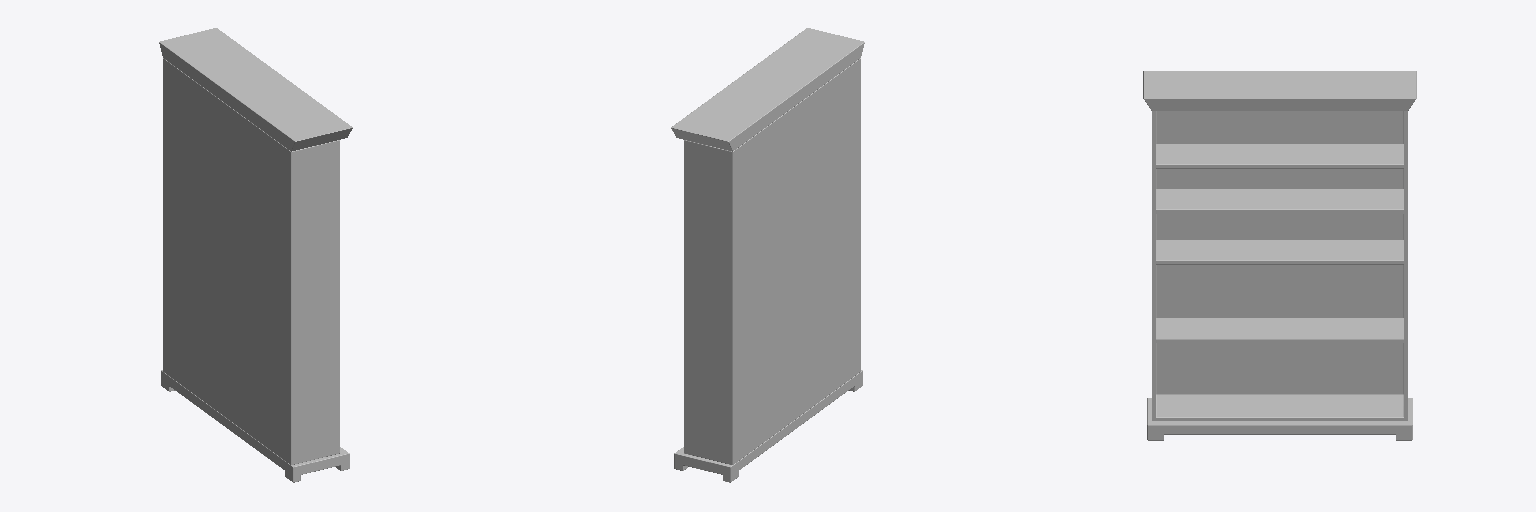
Rendered from bookshelf.obj.
The picture shows the model from 3 angles: view 1: azimuth 30°, elevation 25°; view 2: azimuth 150°, elevation 25°; view 3: azimuth 270°, elevation 25°; orthographic projection.
Parts seen in each view (by area): view 1: bookshelf_Cube.001; view 2: bookshelf_Cube.001; view 3: bookshelf_Cube.001.
Part boxes in pixels (bbox=[...]): bookshelf_Cube.001: bbox=[159, 28, 352, 482]; bookshelf_Cube.001: bbox=[671, 28, 864, 482]; bookshelf_Cube.001: bbox=[1143, 71, 1416, 440].
Bounding box in the file's own units: 0.3796 × 2.14 × 1.55.